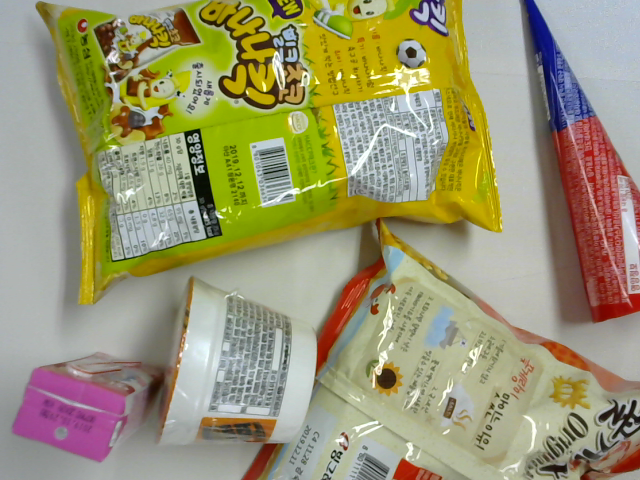Banana_Kick: (31, 1, 506, 303)
Crabrang: (246, 225, 640, 480)
Strawberry_E_Mong: (13, 351, 161, 459)
Udongmini: (159, 274, 316, 452)
World_Cone_Banila: (516, 1, 640, 323)
